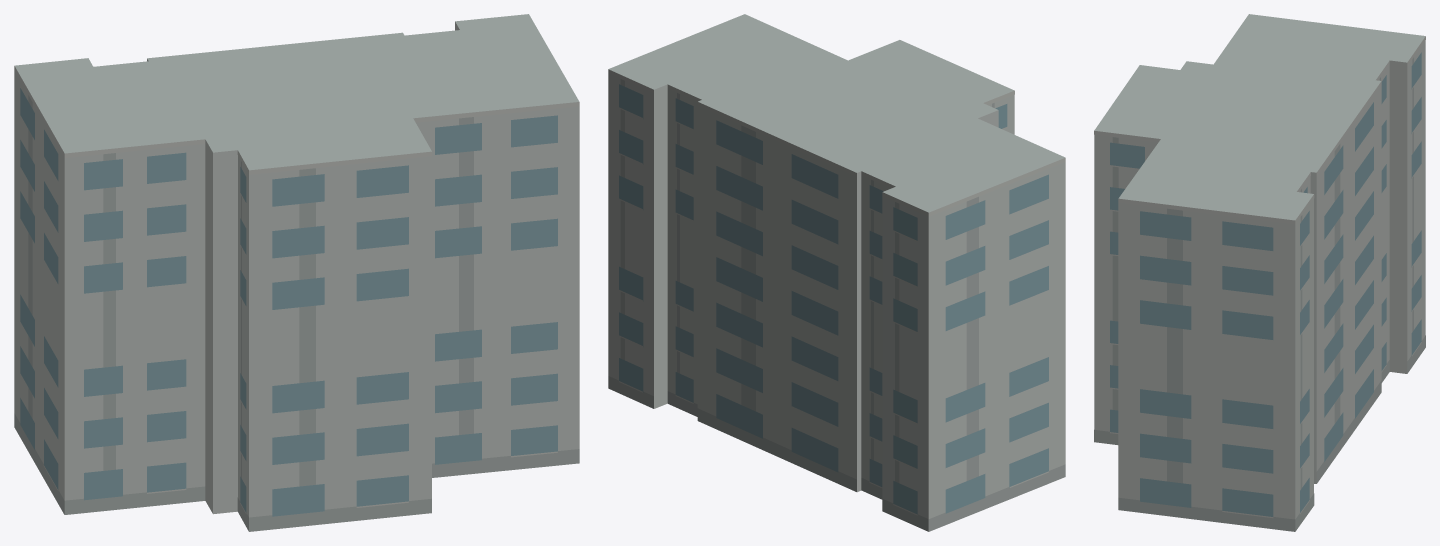
Rendered from survey-upis-32871926.glb.
3 renders of one model, left to right at view 1: azimuth 30°, elevation 25°; view 2: azimuth 150°, elevation 25°; view 3: azimuth 270°, elevation 25°, orthographic. The views are drawn at different scales.
Parts seen in each view (by area): view 1: survey-upis-32871926.tmp; view 2: survey-upis-32871926.tmp; view 3: survey-upis-32871926.tmp.
Part boxes in pixels (<box>): survey-upis-32871926.tmp: <box>14,14,579,531</box>; survey-upis-32871926.tmp: <box>608,14,1065,531</box>; survey-upis-32871926.tmp: <box>1094,14,1425,531</box>.
Bounding box in the file's own units: 26.88 × 18.9 × 18.25.
